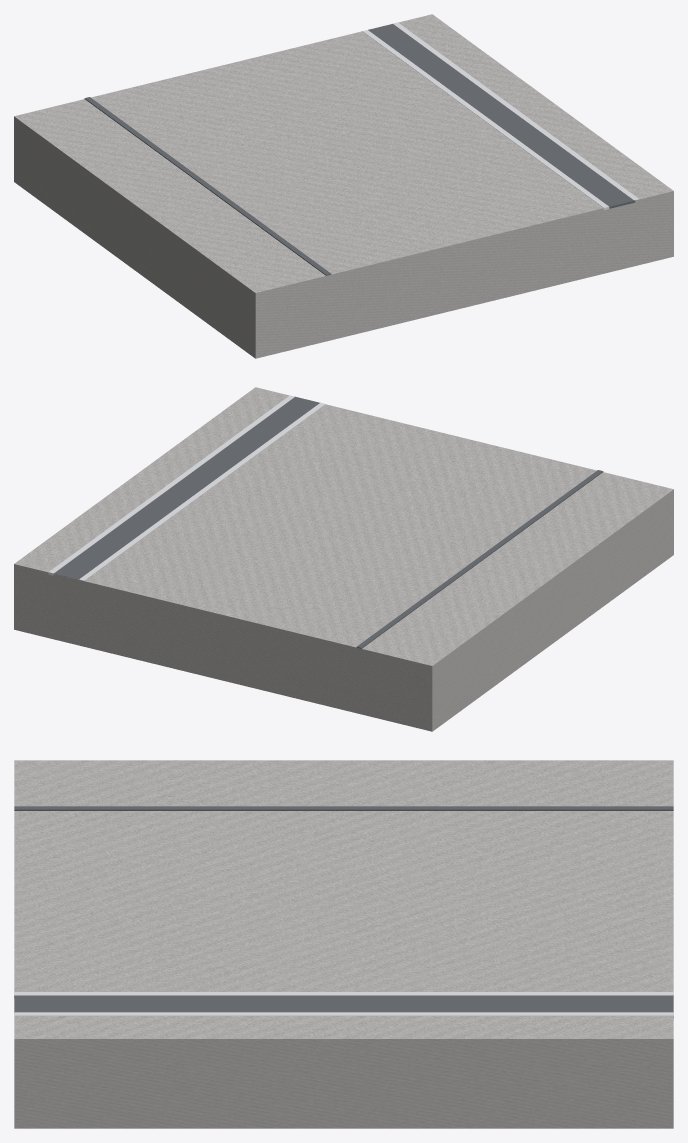
File: marina-and-yacht-club-marina-and-yacht-club-hardstandi-dfa986a7__38280.glb
The picture shows the model from 3 angles, top to bottom: view 1: azimuth 30°, elevation 25°; view 2: azimuth 150°, elevation 25°; view 3: azimuth 270°, elevation 25°; orthographic projection. The views are drawn at different scales.
Parts seen in each view (by area): view 1: marina-and-yacht-club-hardstanding-tile; view 2: marina-and-yacht-club-hardstanding-tile; view 3: marina-and-yacht-club-hardstanding-tile.
Part boxes in pixels (<box>): marina-and-yacht-club-hardstanding-tile: <box>14,14,673,358</box>; marina-and-yacht-club-hardstanding-tile: <box>14,387,673,731</box>; marina-and-yacht-club-hardstanding-tile: <box>14,760,673,1128</box>.
Size of the model in its own units: 4 by 0.6081 by 4.
3 materials, 1 textured.
